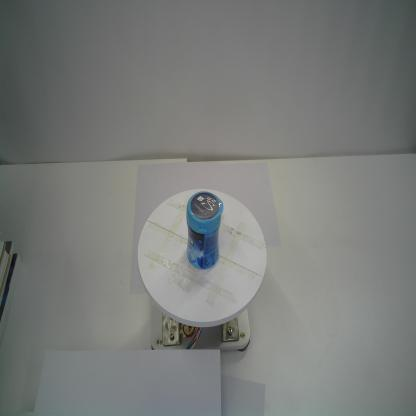Gum: (186, 190, 223, 270)
